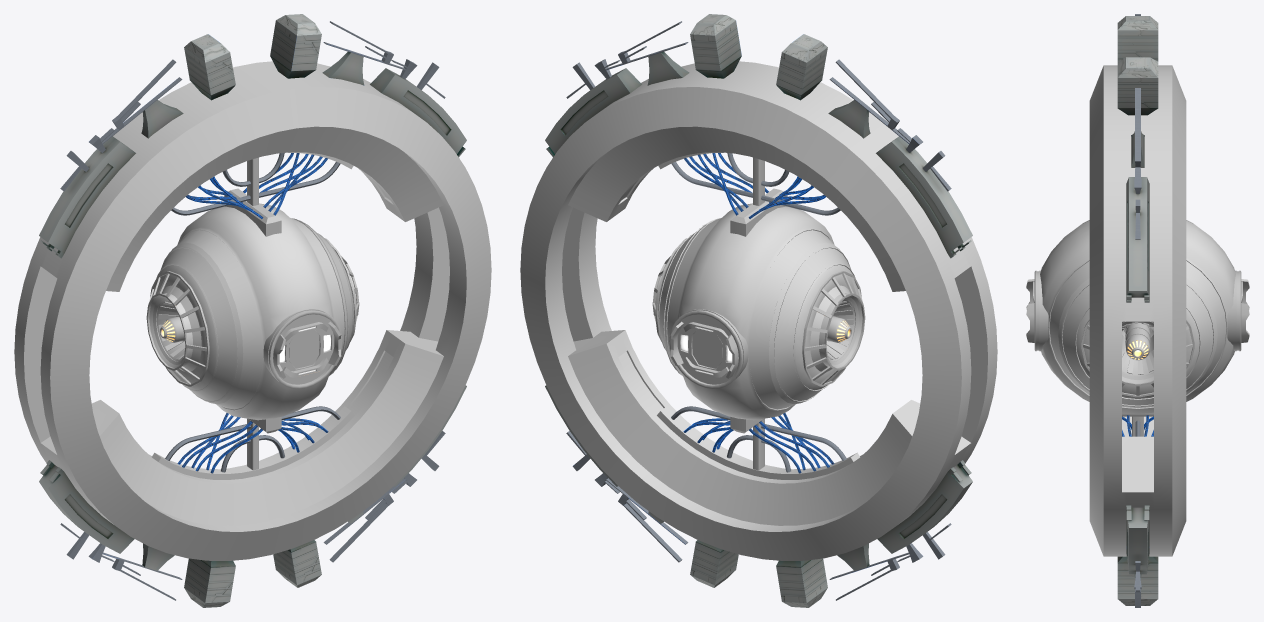
The model's file is SpaceStation.fbx.
3 renders of one model, left to right at view 1: azimuth 30°, elevation 25°; view 2: azimuth 150°, elevation 25°; view 3: azimuth 270°, elevation 25°, orthographic. The views are drawn at different scales.
Parts seen in each view (by area): view 1: SpaceStation; view 2: SpaceStation; view 3: SpaceStation.
Boxes of the visible parts, x1=… form: SpaceStation: x1=14, y1=14, x2=491, y2=607; SpaceStation: x1=520, y1=14, x2=997, y2=607; SpaceStation: x1=1026, y1=14, x2=1249, y2=607.
Size of the model in its own units: 10000 by 12208 by 4543.
